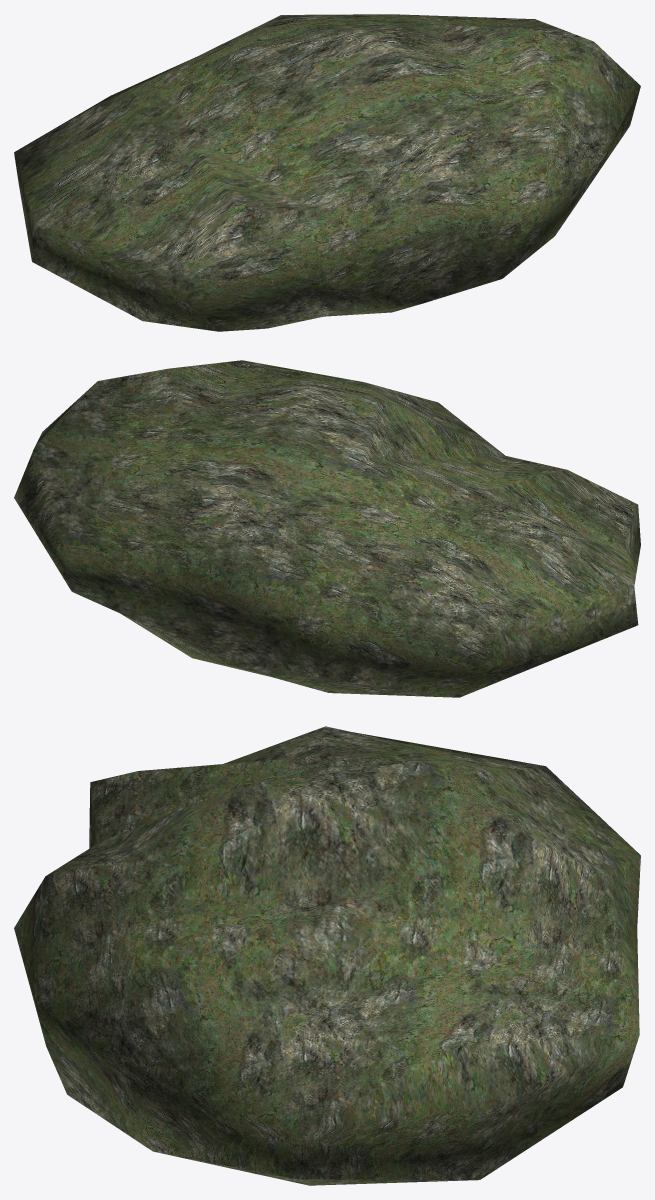
File: mtns_rock_moss_a2_l1.fbx
3 renders of one model, top to bottom at view 1: azimuth 30°, elevation 25°; view 2: azimuth 150°, elevation 25°; view 3: azimuth 270°, elevation 25°, orthographic. The views are drawn at different scales.
Parts seen in each view (by area): view 1: mesh_node; view 2: mesh_node; view 3: mesh_node.
Boxes of the visible parts, bbox=[...] form: mesh_node: bbox=[14, 14, 640, 331]; mesh_node: bbox=[14, 360, 640, 697]; mesh_node: bbox=[14, 726, 640, 1185].
Size of the model in its own units: 3.4 by 1.21 by 2.2.
